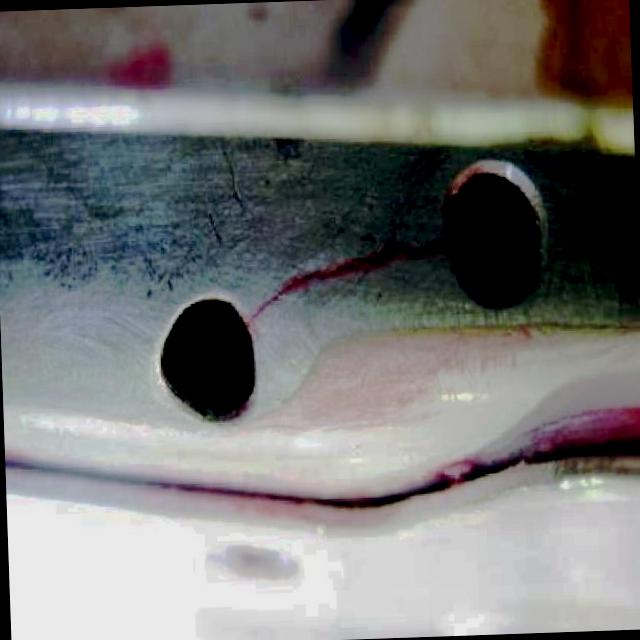crack: (243, 284, 292, 323), (296, 262, 362, 280), (401, 239, 442, 259), (358, 246, 398, 262)
